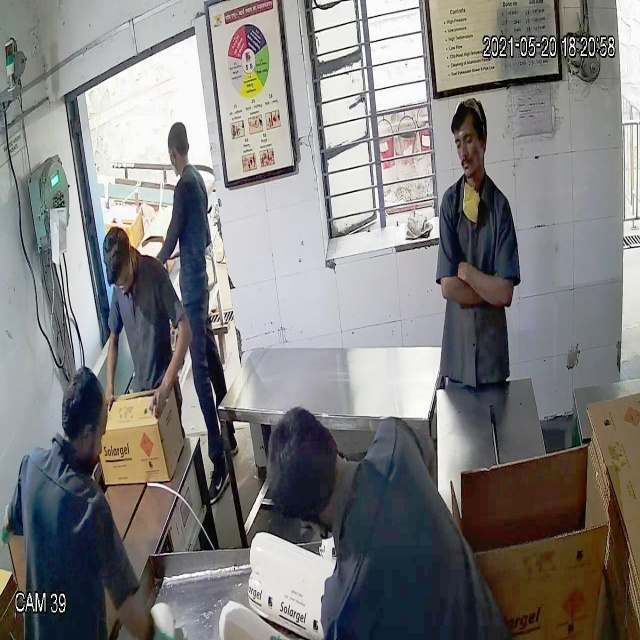Sin_gafas: (450, 127, 486, 155)
